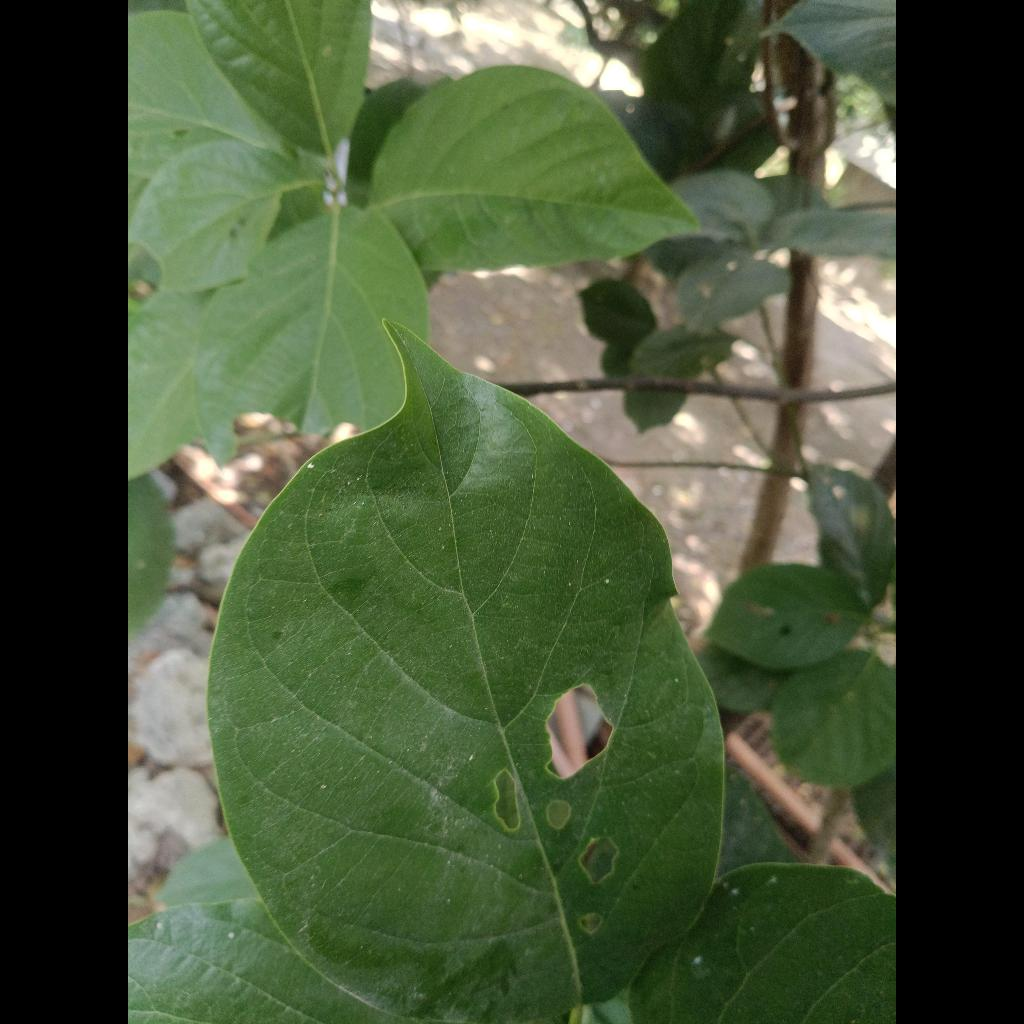Pest Infested: (208, 325, 722, 1024)
